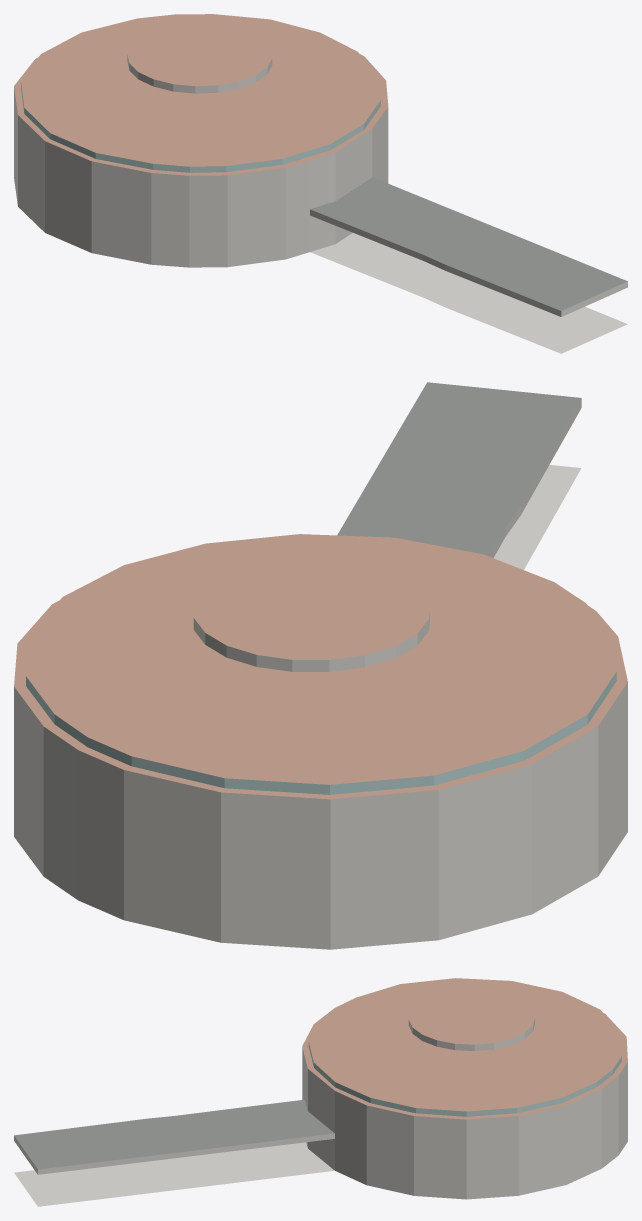
Rendered from gridID_62.dae.
The picture shows the model from 3 angles, top to bottom: view 1: azimuth 30°, elevation 25°; view 2: azimuth 150°, elevation 25°; view 3: azimuth 270°, elevation 25°; orthographic projection. The views are drawn at different scales.
Parts seen in each view (by area): view 1: model_gridID_62_w113655509, model_gridID_62_w113655506; view 2: model_gridID_62_w113655509, model_gridID_62_w113655506; view 3: model_gridID_62_w113655509, model_gridID_62_w113655506.
Boxes of the visible parts, box(x1,y1,x2,y2) form: model_gridID_62_w113655509: box(14, 14, 388, 267); model_gridID_62_w113655506: box(310, 177, 627, 353); model_gridID_62_w113655509: box(14, 534, 627, 949); model_gridID_62_w113655506: box(337, 382, 581, 569); model_gridID_62_w113655509: box(302, 978, 627, 1199); model_gridID_62_w113655506: box(14, 1099, 334, 1206).
Bounding box in the file's own units: 29.38 × 52.24 × 10.6.
